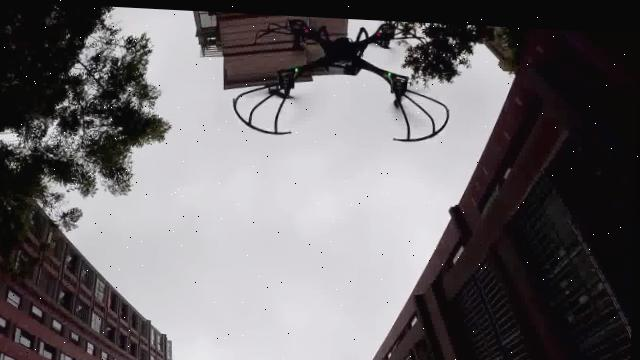drone: (241, 11, 458, 142)
